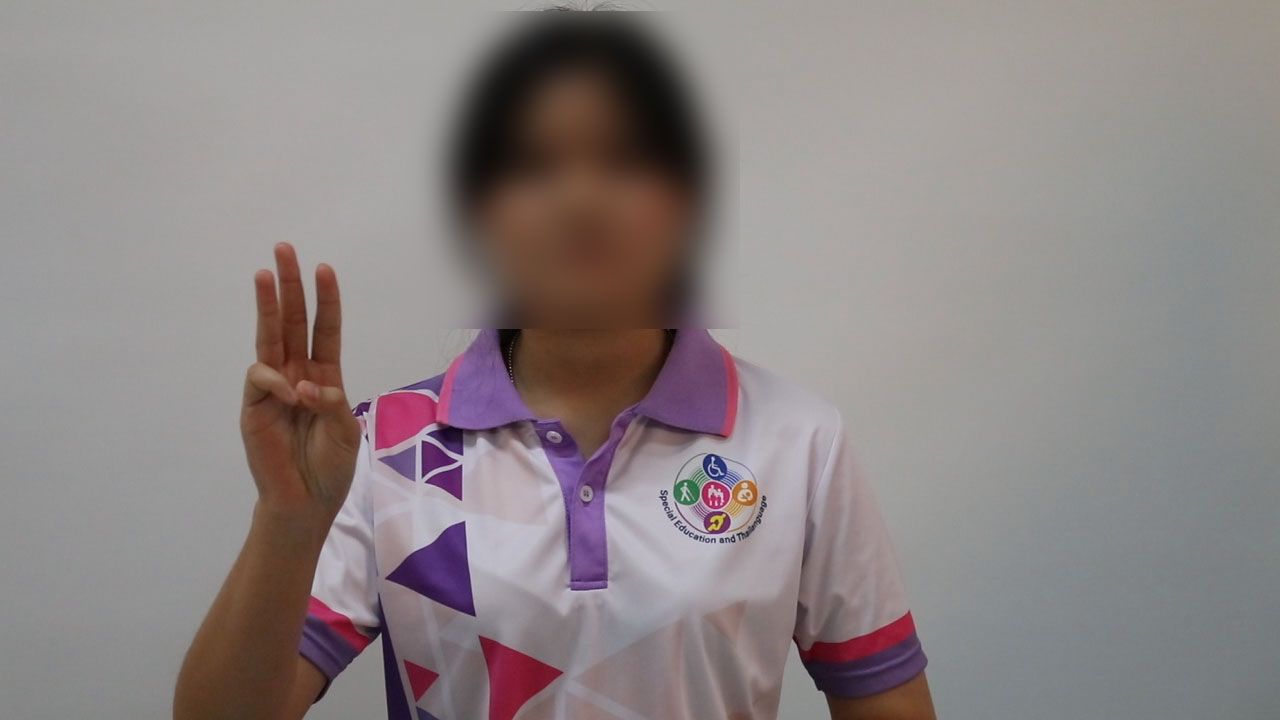wor: (230, 232, 368, 546)
